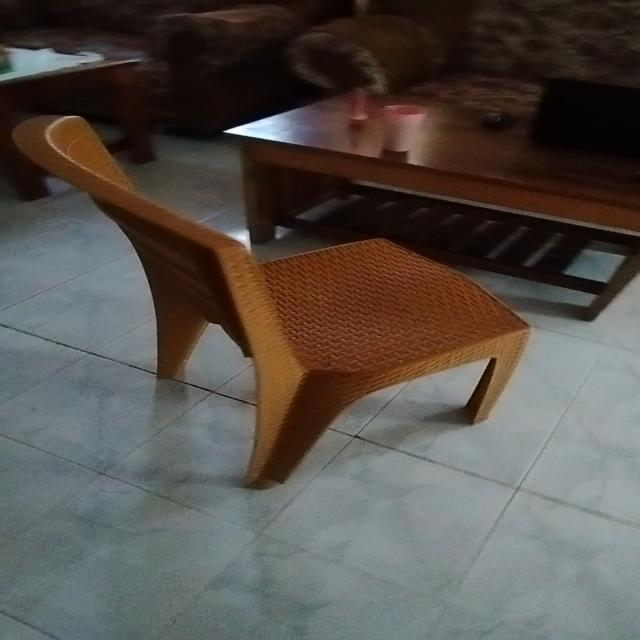chair: (10, 108, 571, 499)
